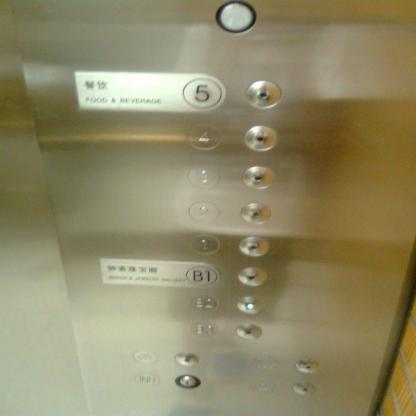1: (186, 232, 222, 257)
2: (185, 199, 222, 224)
3: (184, 164, 221, 189)
4: (185, 123, 224, 152)
5: (179, 75, 226, 111)
B1: (183, 264, 220, 288)
B2: (187, 293, 221, 315)
B3: (188, 318, 221, 340)
alarm: (246, 375, 280, 396)
close: (248, 353, 281, 374)
empty: (212, 0, 258, 36)
indicator: (241, 78, 285, 110), (238, 123, 281, 154), (240, 162, 277, 192), (234, 199, 275, 226), (234, 264, 271, 290), (235, 234, 272, 259), (233, 294, 267, 316), (232, 320, 266, 342), (170, 348, 203, 370), (290, 357, 322, 375), (288, 379, 320, 397)
keyhole: (172, 372, 204, 390)
open: (127, 346, 161, 368)
text: (130, 370, 162, 388)
